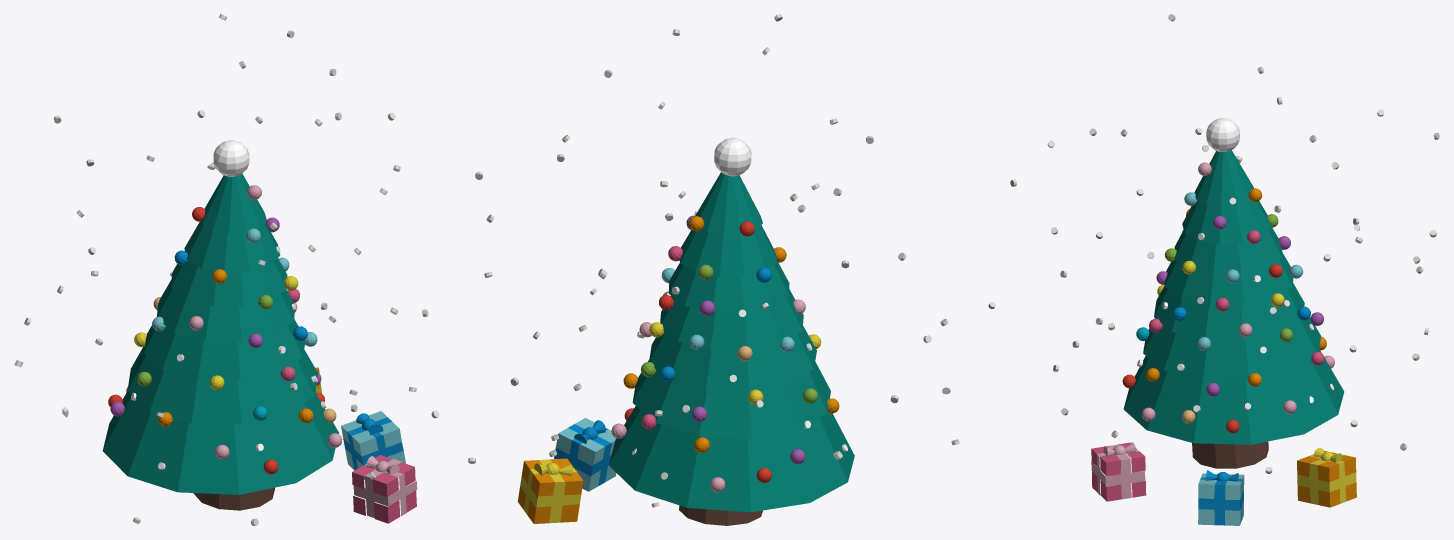
3 views of the same model, side by side, from view 1: azimuth 30°, elevation 25°; view 2: azimuth 150°, elevation 25°; view 3: azimuth 270°, elevation 25° (orthographic). The views are drawn at different scales.
Visible parts, largest first — view 1: node_MeshObject-1264603136-PolyPaper21, node_MeshObject750795776-PolyPaper8, node_MeshObject-692524032-PolyGem25; view 2: node_MeshObject-1264603136-PolyPaper21, node_MeshObject750795776-PolyPaper8, node_MeshObject-692524032-PolyGem25; view 3: node_MeshObject-1264603136-PolyPaper21, node_MeshObject750795776-PolyPaper8, node_MeshObject-692524032-PolyGem25.
Part boxes in pixels (left/top/right/bottom): node_MeshObject-1264603136-PolyPaper21: left=14, top=14, right=439, bottom=525; node_MeshObject750795776-PolyPaper8: left=247, top=185, right=417, bottom=518; node_MeshObject-692524032-PolyGem25: left=131, top=140, right=326, bottom=469; node_MeshObject-1264603136-PolyPaper21: left=468, top=14, right=959, bottom=525; node_MeshObject750795776-PolyPaper8: left=517, top=268, right=707, bottom=523; node_MeshObject-692524032-PolyGem25: left=632, top=137, right=847, bottom=479; node_MeshObject-1264603136-PolyPaper21: left=988, top=14, right=1439, bottom=501; node_MeshObject750795776-PolyPaper8: left=1091, top=162, right=1356, bottom=525; node_MeshObject-692524032-PolyGem25: left=1137, top=118, right=1333, bottom=412.
Size of the model in its own units: 0.6195 by 0.6884 by 0.6464.
